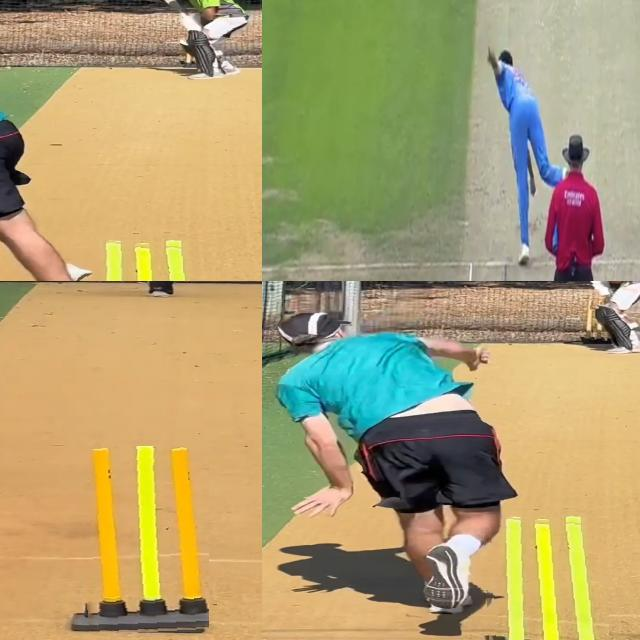Stumps: (73, 446, 209, 635), (482, 515, 608, 640), (84, 238, 209, 281)
